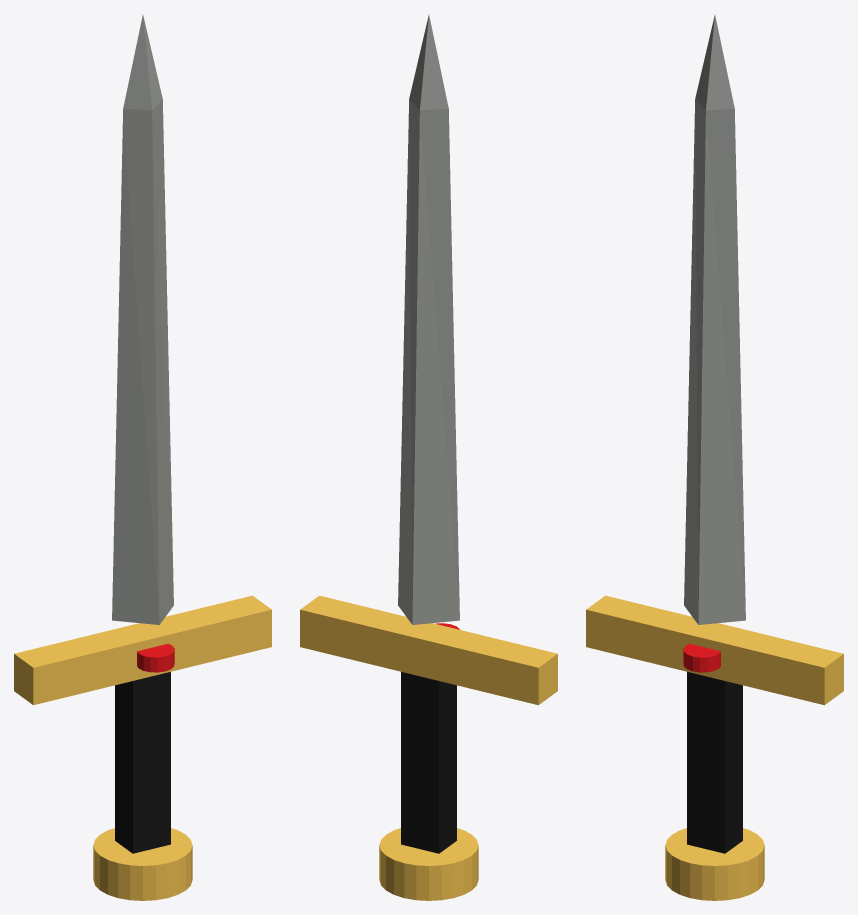
The model's file is sword_02_heavy_broadsword.obj.
The picture shows the model from 3 angles, left to right: view 1: azimuth 30°, elevation 25°; view 2: azimuth 150°, elevation 25°; view 3: azimuth 330°, elevation 25°; orthographic projection.
Bounding box in the file's own units: 0.5 × 1.74 × 0.18.
